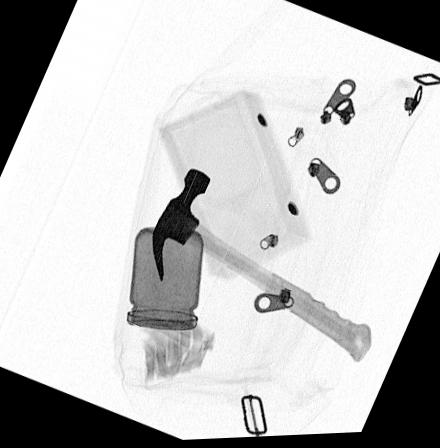Hammer: (152, 170, 373, 367)
